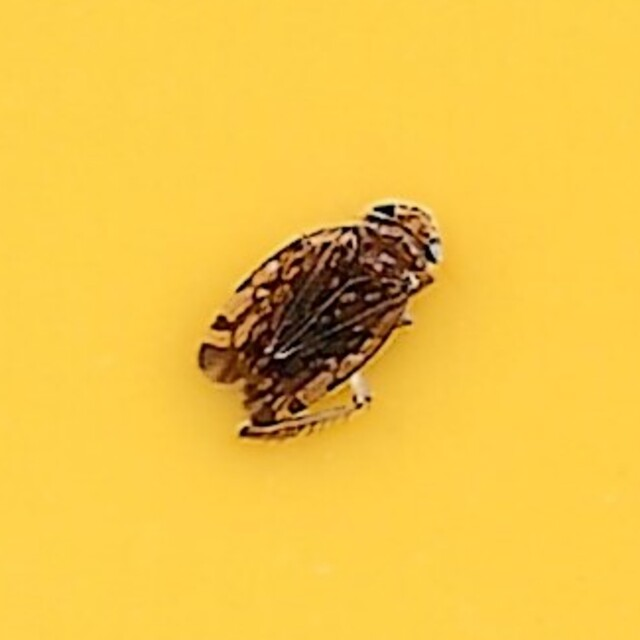Hemiptera: (197, 194, 443, 446)
